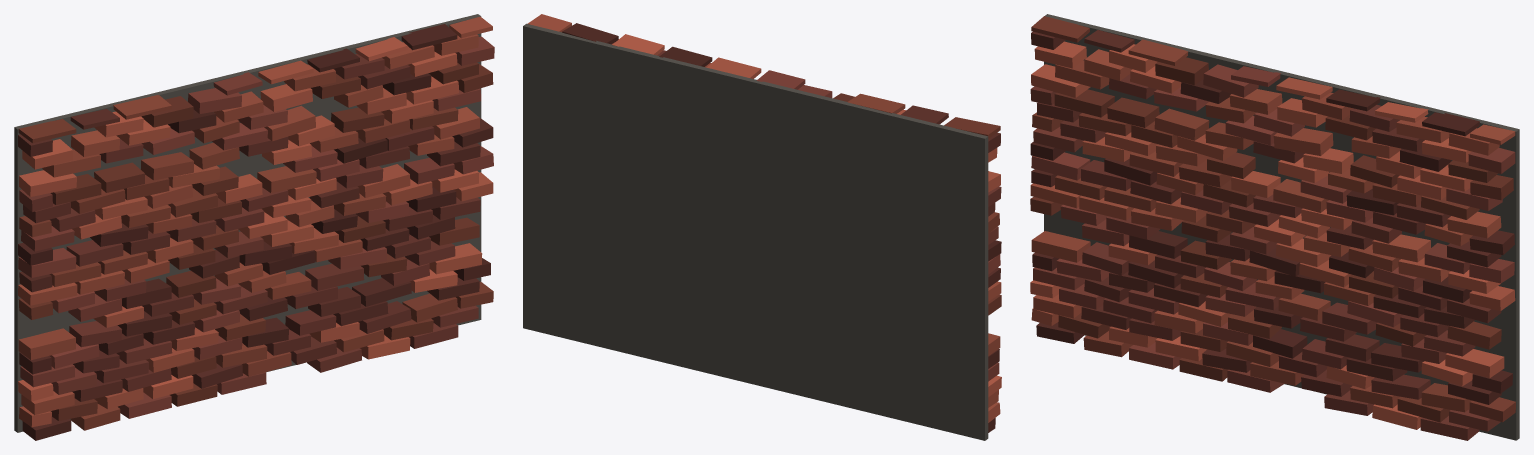
File: wall_old.fbx
3 views of the same model, side by side, from view 1: azimuth 30°, elevation 25°; view 2: azimuth 150°, elevation 25°; view 3: azimuth 330°, elevation 25° (orthographic). The views are drawn at different scales.
Visible parts, largest first — view 1: wall_old; view 2: wall_old; view 3: wall_old.
Boxes of the visible parts, x1,y1,x2,y2 form: wall_old: [14, 14, 494, 440]; wall_old: [523, 14, 1001, 440]; wall_old: [1030, 14, 1519, 440].
Size of the model in its own units: 400 by 252 by 26.76.
